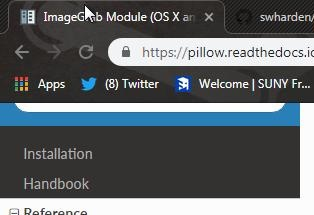cursor: (83, 4, 96, 23)
